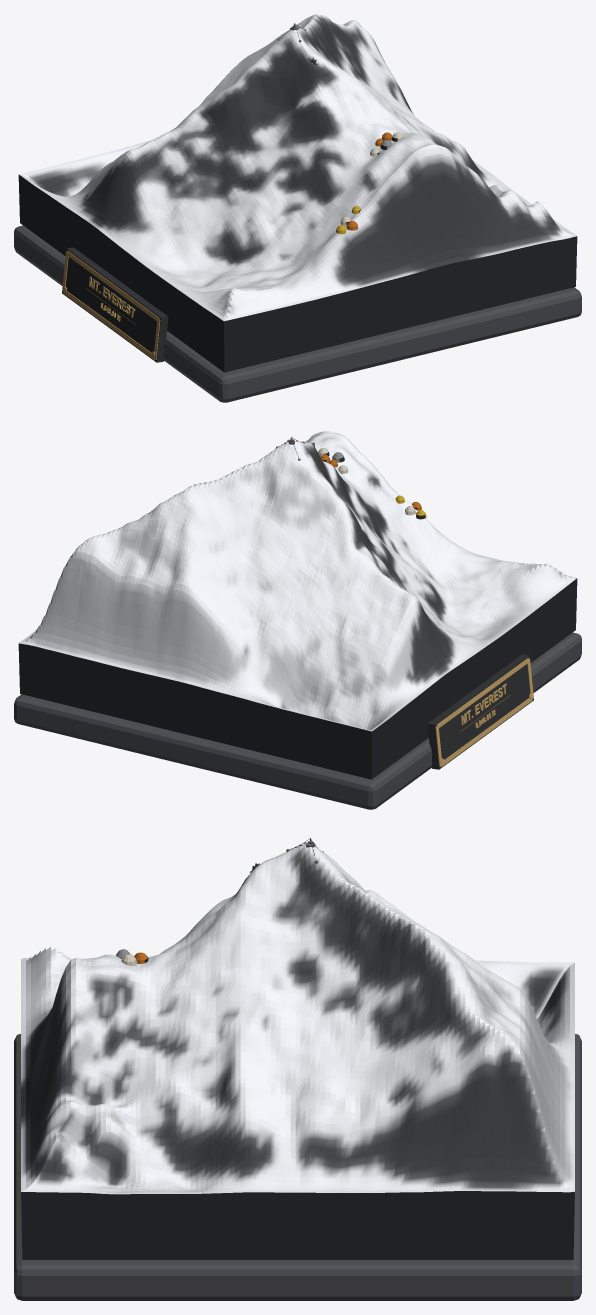
The model's file is full_route.glb.
3 views of the same model, one above another, from view 1: azimuth 30°, elevation 25°; view 2: azimuth 150°, elevation 25°; view 3: azimuth 270°, elevation 25° (orthographic). The views are drawn at different scales.
Visible parts, largest first — view 1: FR_Terrain, FR_Plinth, FR_SignBack, FR_SignBolt_-1; view 2: FR_Terrain, FR_Plinth, FR_SignBack, FR_SignBolt_-1; view 3: FR_Terrain, FR_Plinth.
Boxes of the visible parts, x1,y1,x2,y2 form: FR_Terrain: (18, 14, 577, 372); FR_Plinth: (14, 225, 581, 402); FR_SignBack: (62, 247, 168, 362); FR_SignBolt_-1: (62, 251, 160, 360); FR_Terrain: (18, 431, 577, 779); FR_Plinth: (14, 632, 581, 809); FR_SignBack: (427, 654, 533, 769); FR_SignBolt_-1: (435, 658, 533, 767); FR_Terrain: (21, 844, 574, 1259); FR_Plinth: (14, 1034, 581, 1300).
Size of the model in its own units: 0.0394 by 0.0262 by 0.0388.
